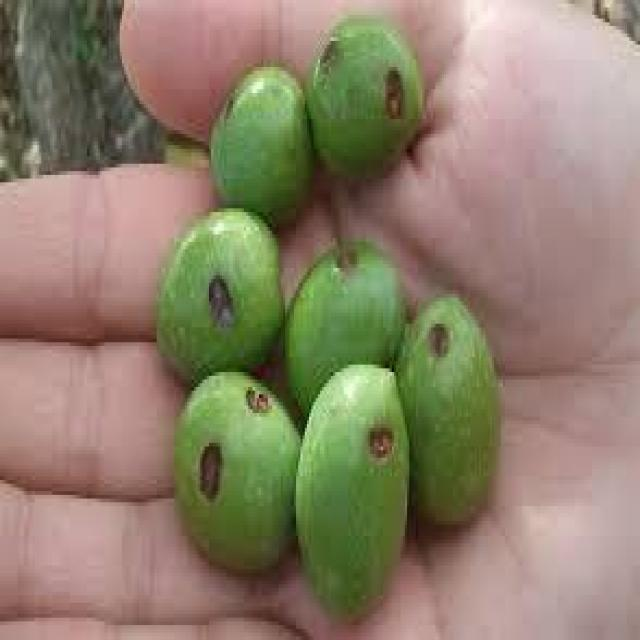Olive Fruit Fly: (296, 365, 407, 614), (174, 376, 298, 569), (396, 294, 499, 521), (157, 208, 281, 383), (287, 238, 405, 413), (307, 19, 422, 175)
